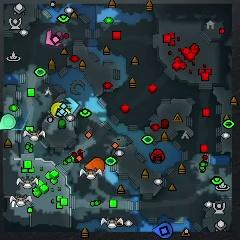p1: (152, 221, 173, 239)
p2: (0, 113, 18, 131)
p4: (50, 102, 70, 118)
p5: (84, 156, 106, 173)
x1: (45, 29, 60, 48)
x3: (62, 96, 80, 114)
